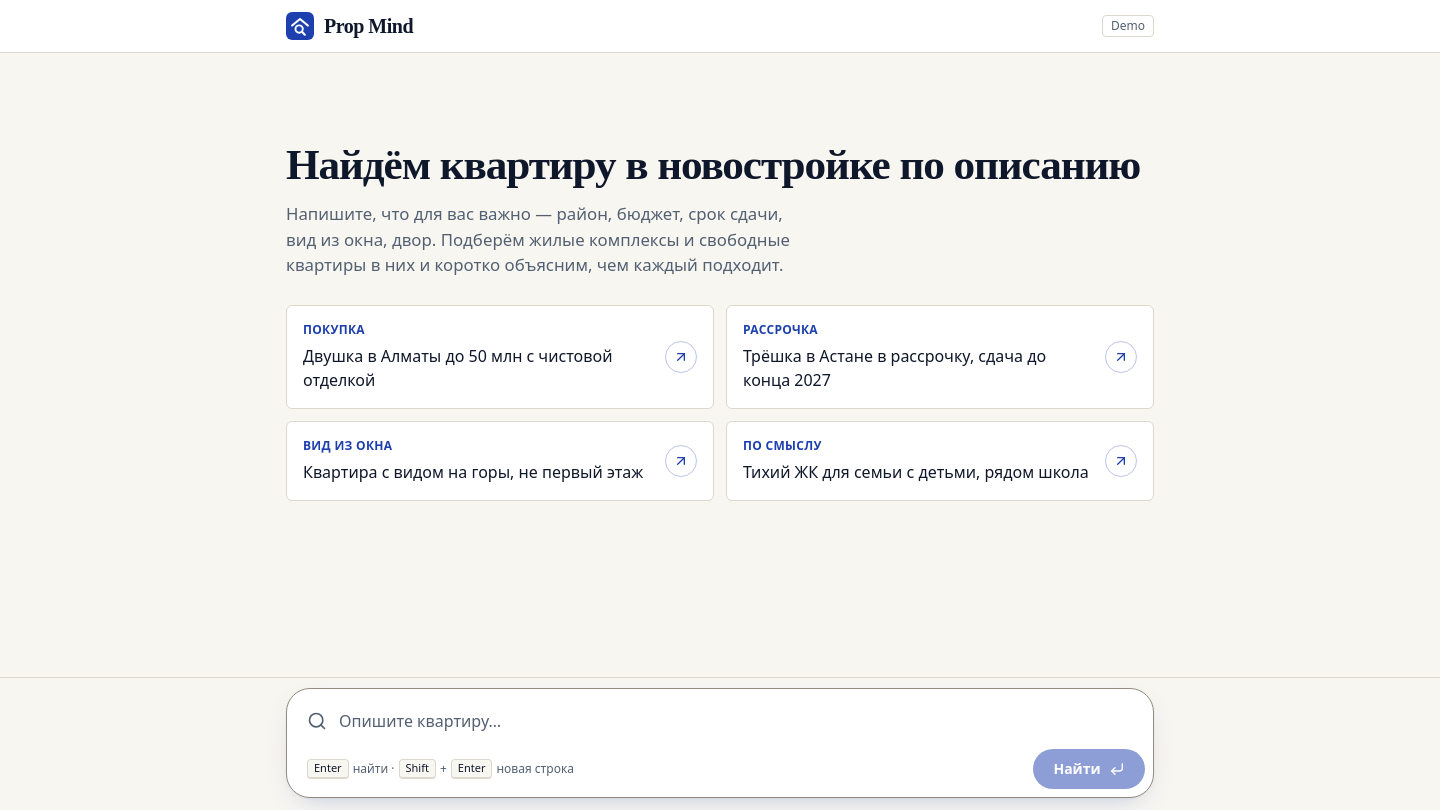
it: limit error from the server is shown as the assistant's message
The image size is (1440, 810).
Type "двушка" into the text box named "Запрос" at x=736, y=721, box [339, 701, 1133, 741]
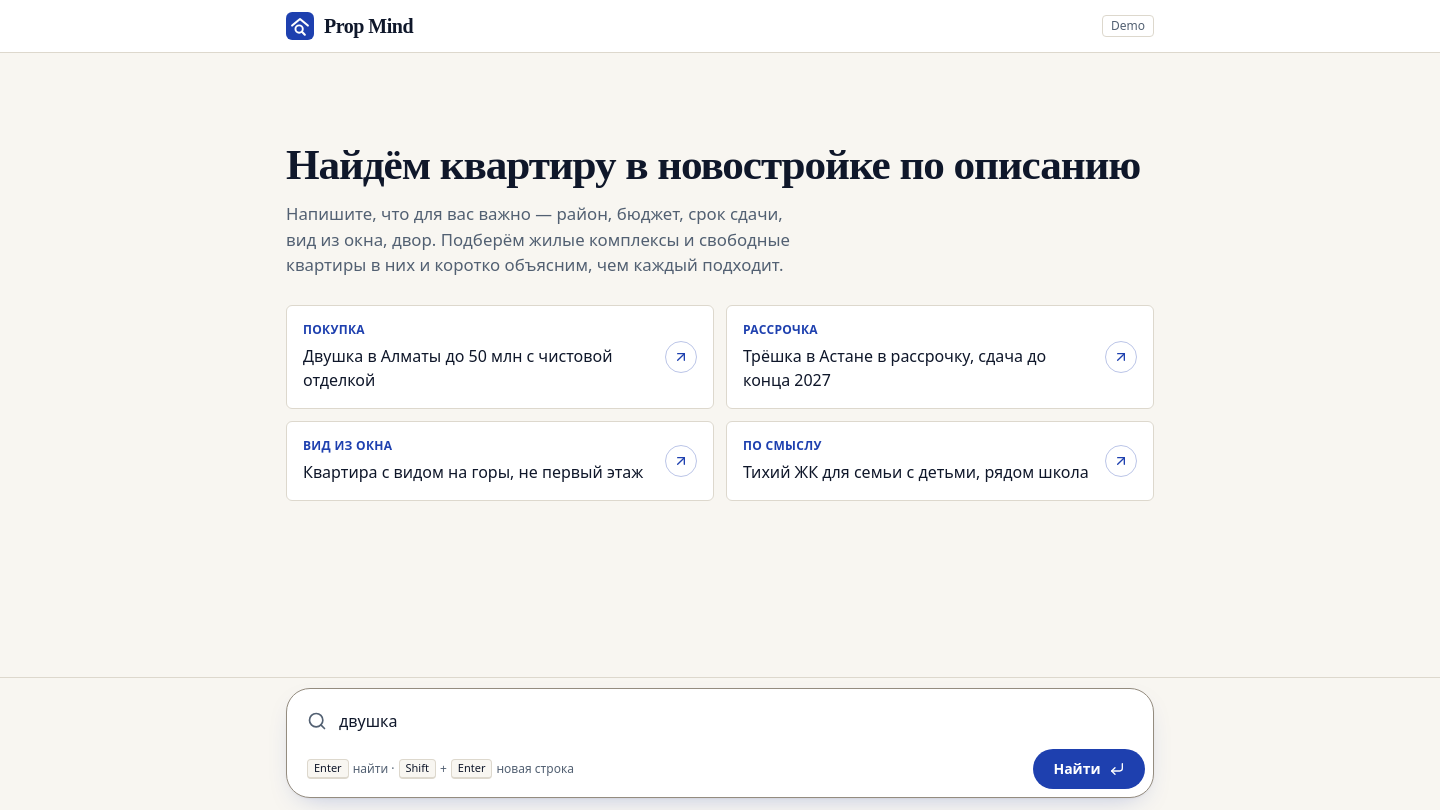
Press Enter in the text box named "Запрос", box [339, 701, 1133, 741]
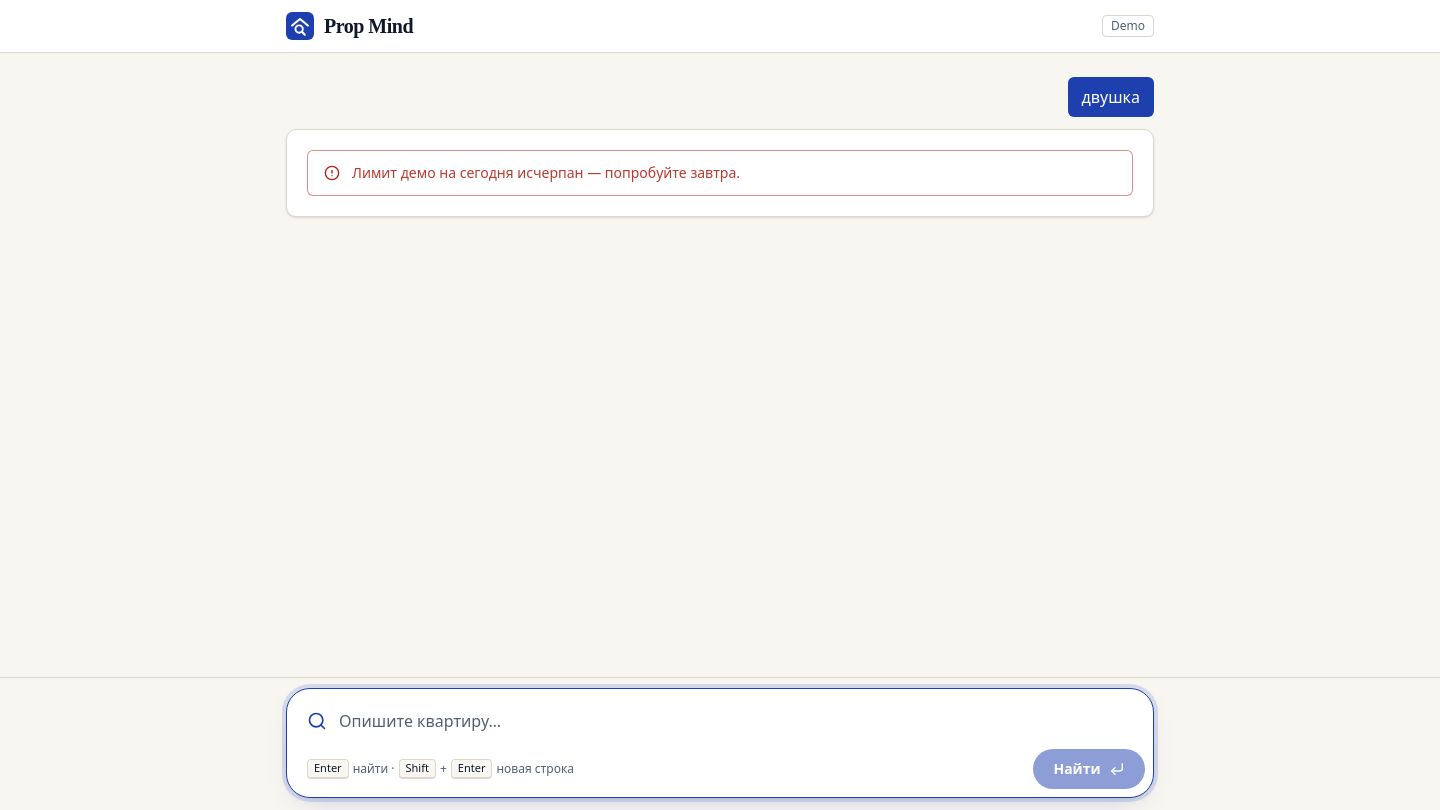
Expected: the message reads "Лимит демо на сегодня исчерпан — попробуйте завтра.", [352, 163, 740, 182]
